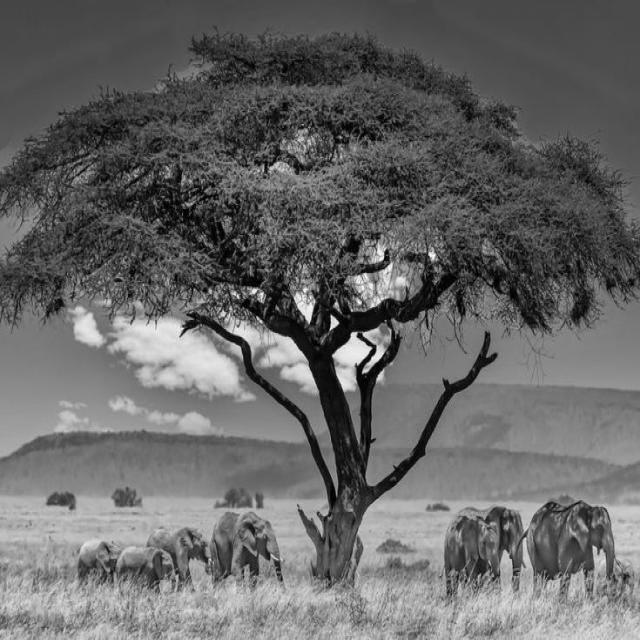Acacia: (16, 61, 632, 436)
